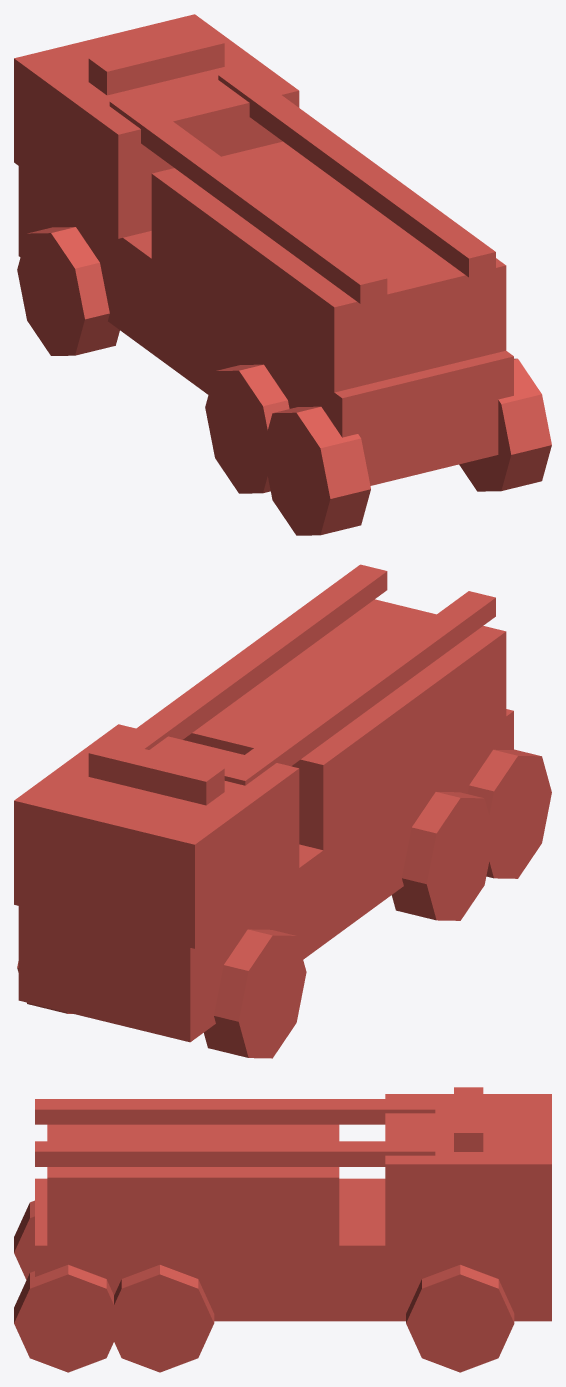
File: veh_fire_truck.glb
3 views of the same model, one above another, from view 1: azimuth 30°, elevation 25°; view 2: azimuth 150°, elevation 25°; view 3: azimuth 270°, elevation 25° (orthographic). The views are drawn at different scales.
Visible parts, largest first — view 1: veh_fire_truck; view 2: veh_fire_truck; view 3: veh_fire_truck.
Boxes of the visible parts, <box> form: veh_fire_truck: <box>14,14,551,535</box>; veh_fire_truck: <box>14,564,551,1058</box>; veh_fire_truck: <box>14,1087,551,1372</box>.
Size of the model in its own units: 0.49 by 0.58 by 1.29.
